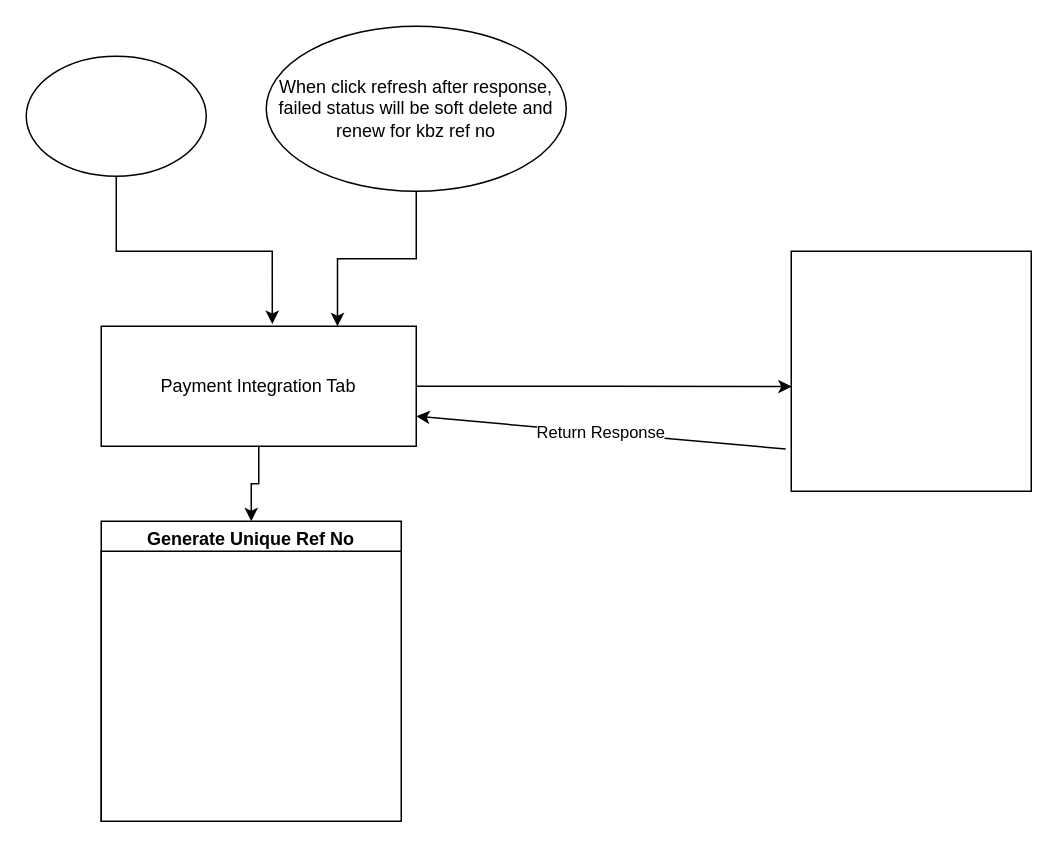
This 1058x848 diagram has some shape labels left out. Each missing label, with the box of its shape:
After Refresh External Ref No Create: (25, 55, 206, 176)
KBZ Automation Process: (790, 250, 1031, 491)
